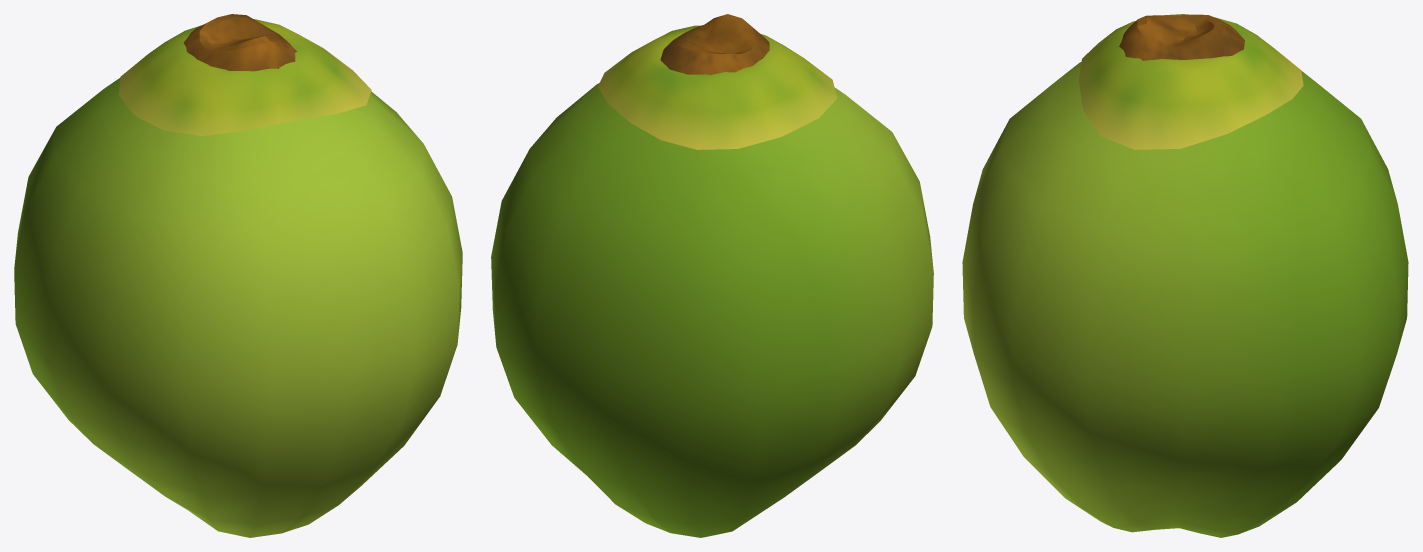
File: CoconutSplit.fbx
3 views of the same model, side by side, from view 1: azimuth 30°, elevation 25°; view 2: azimuth 150°, elevation 25°; view 3: azimuth 270°, elevation 25° (orthographic). The views are drawn at different scales.
Visible parts, largest first — view 1: coconut.001, coconut.002; view 2: coconut.001, coconut.002; view 3: coconut.001, coconut.002.
Part boxes in pixels (box(x1,y1,x2,y2)): coconut.001: box(14, 14, 462, 383); coconut.002: box(15, 283, 461, 537); coconut.001: box(491, 14, 933, 385); coconut.002: box(492, 286, 932, 537); coconut.001: box(962, 14, 1408, 384); coconut.002: box(963, 291, 1407, 537).
Size of the model in its own units: 649 by 799 by 642.
Materials: 2 (2 with a texture image).
